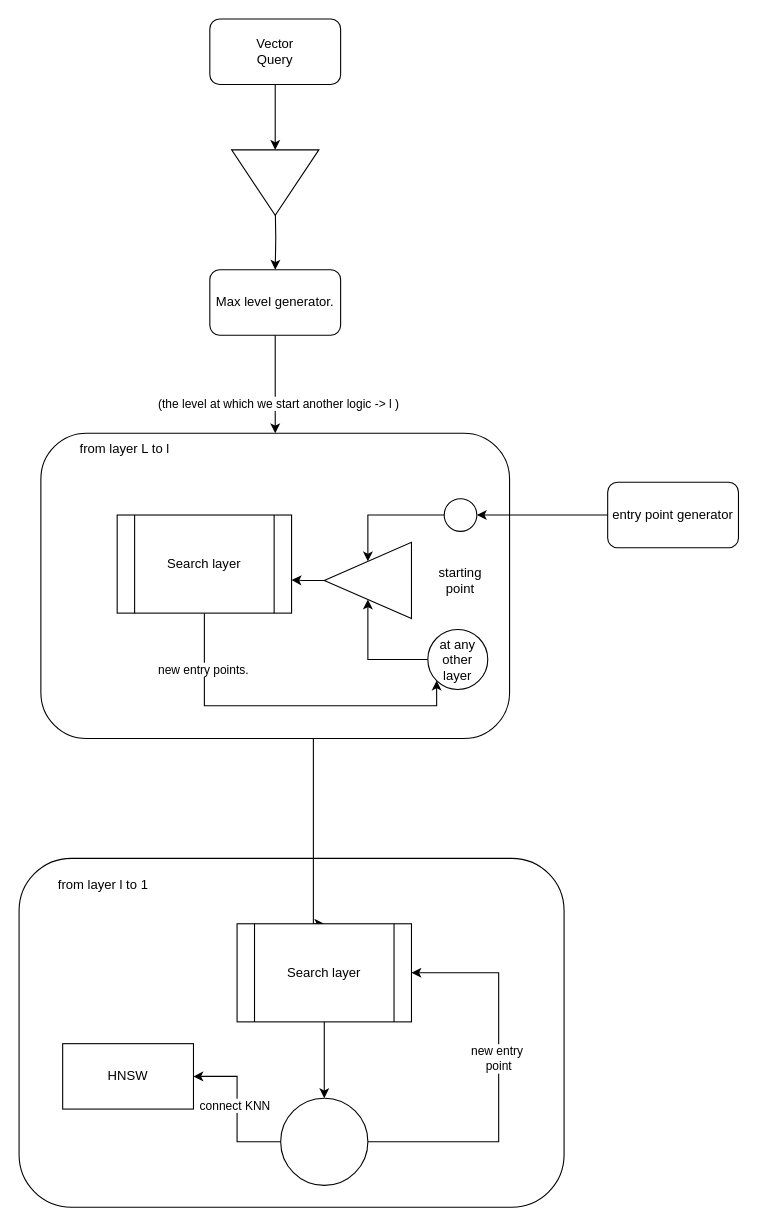
Some shapes in this 758 by 1226 pixel diagram are drawn without their labels. Here are the shapes that lost their labels. From the top down, the centre of each, then its label:
[275,182]: I/p
[460,514]: at L
[367,580]: decider
[324,1141]: K Nodes
